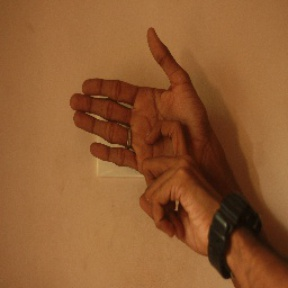R: (64, 24, 219, 224)
